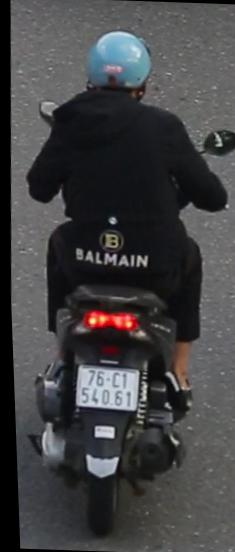LP: (68, 359, 138, 413)
helmet: (78, 25, 154, 105)
